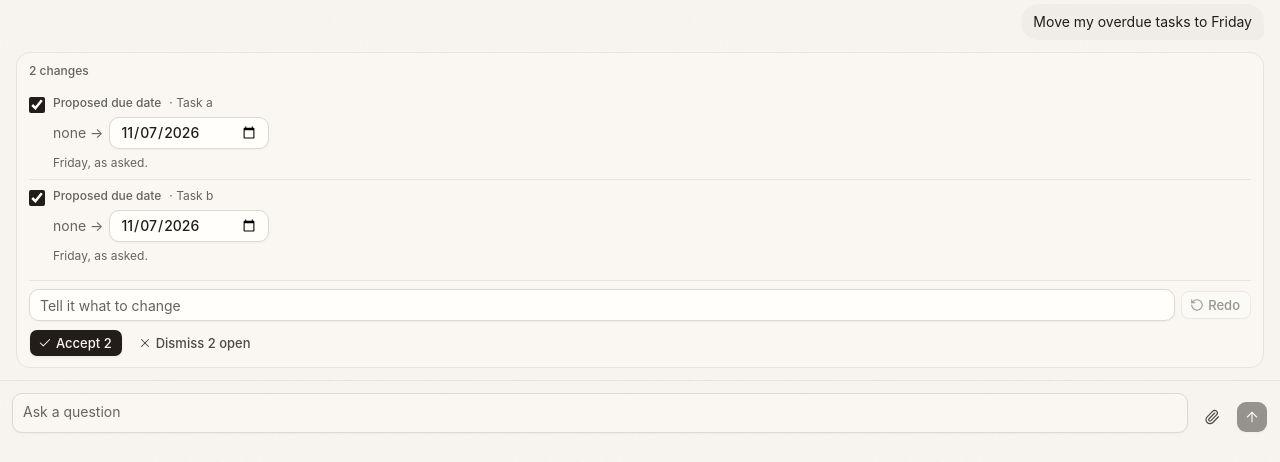
Scenario: one card per answer › shows a refused row's reason on its own line and goes on with the others
The image size is (1280, 462).
Click the button "Accept 2" at (76, 343), box [29,329,123,357]
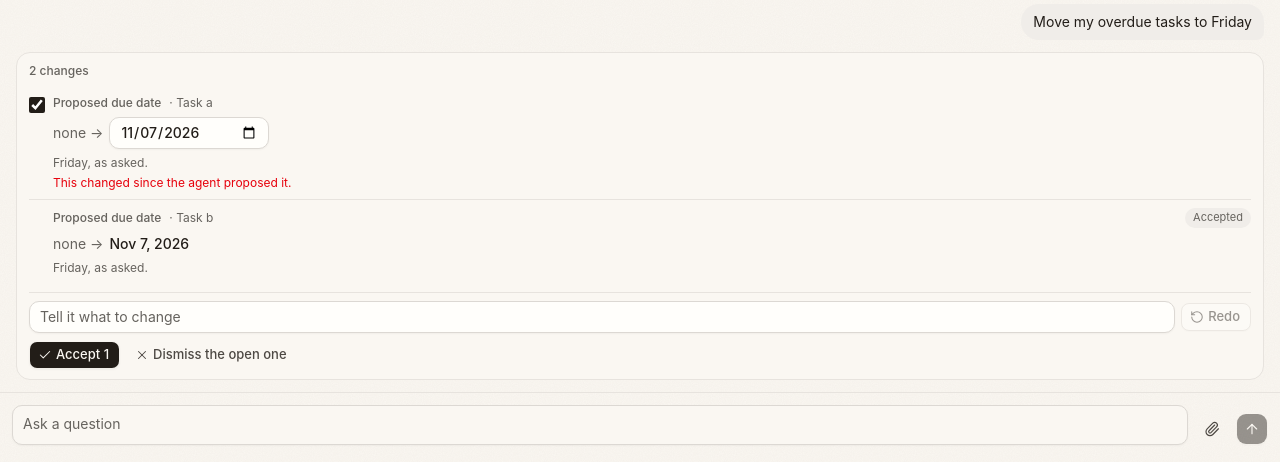
Check: the text "This changed since the agent proposed it." is shown, box [53,175,292,190]
